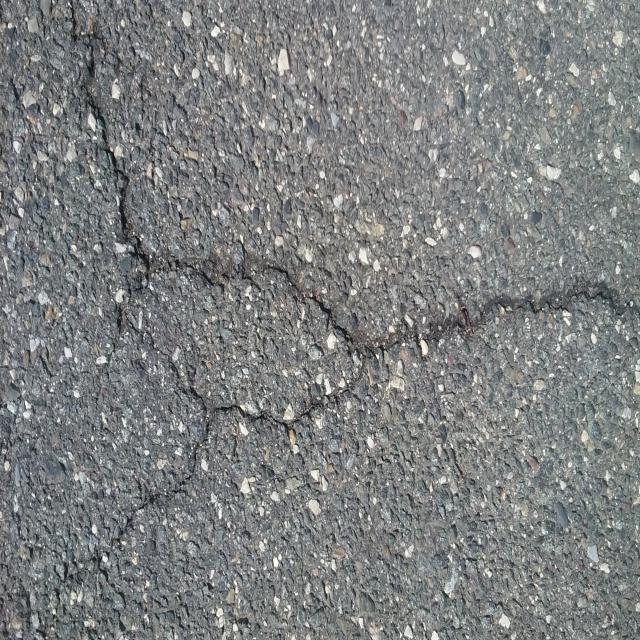Crack: (66, 0, 640, 579)
